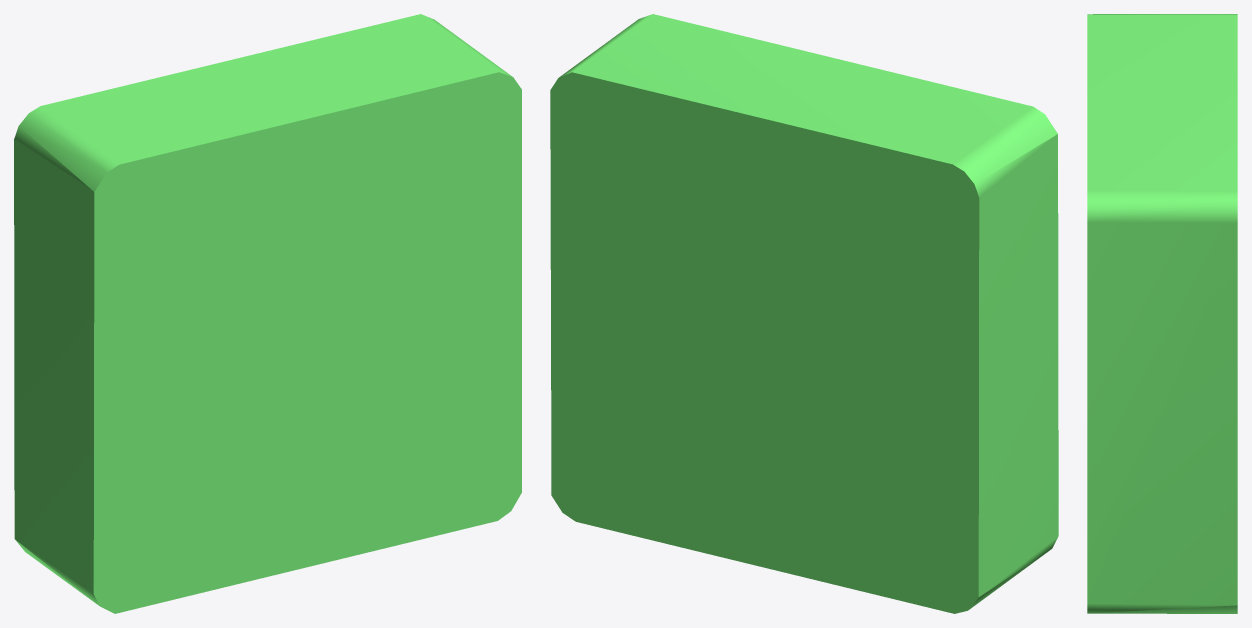
The model's file is b0495_pcb.obj.
3 renders of one model, left to right at view 1: azimuth 30°, elevation 25°; view 2: azimuth 150°, elevation 25°; view 3: azimuth 270°, elevation 25°, orthographic. The views are drawn at different scales.
Parts seen in each view (by area): view 1: b0495_pcb; view 2: b0495_pcb; view 3: b0495_pcb.
Part boxes in pixels (bbox=[...]): b0495_pcb: bbox=[14, 14, 521, 613]; b0495_pcb: bbox=[550, 14, 1058, 613]; b0495_pcb: bbox=[1087, 14, 1237, 613].
Bounding box in the file's own units: 0.0339 × 0.034 × 0.0109.
